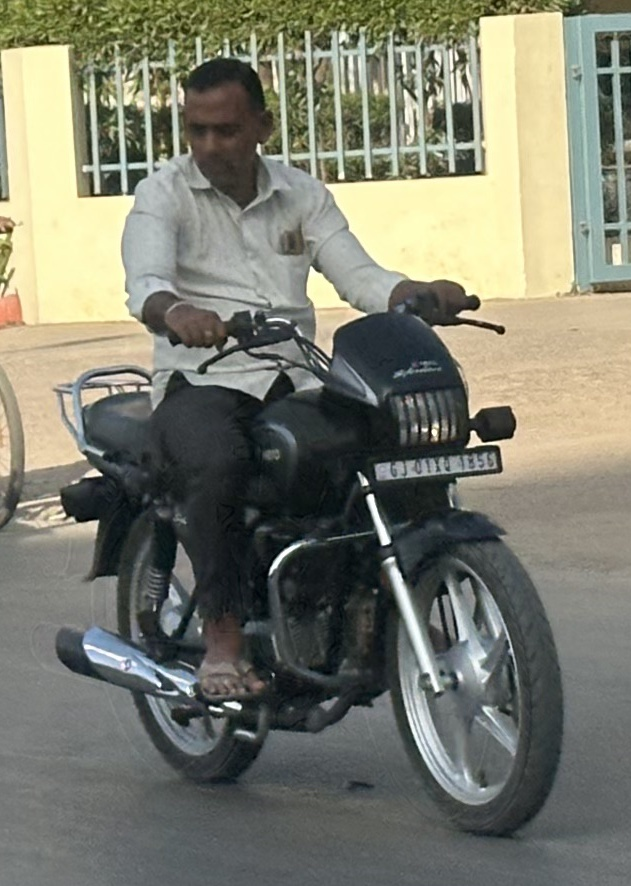BikeWithRider: (42, 45, 576, 844)
NoHelmet: (165, 49, 285, 180)
